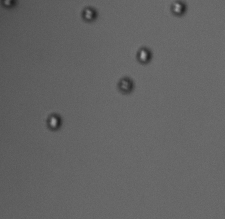Dead Cell: (114, 75, 136, 95)
Living Cell: (136, 45, 153, 64), (45, 113, 62, 130), (81, 6, 98, 21), (171, 1, 186, 16), (1, 1, 18, 7)
